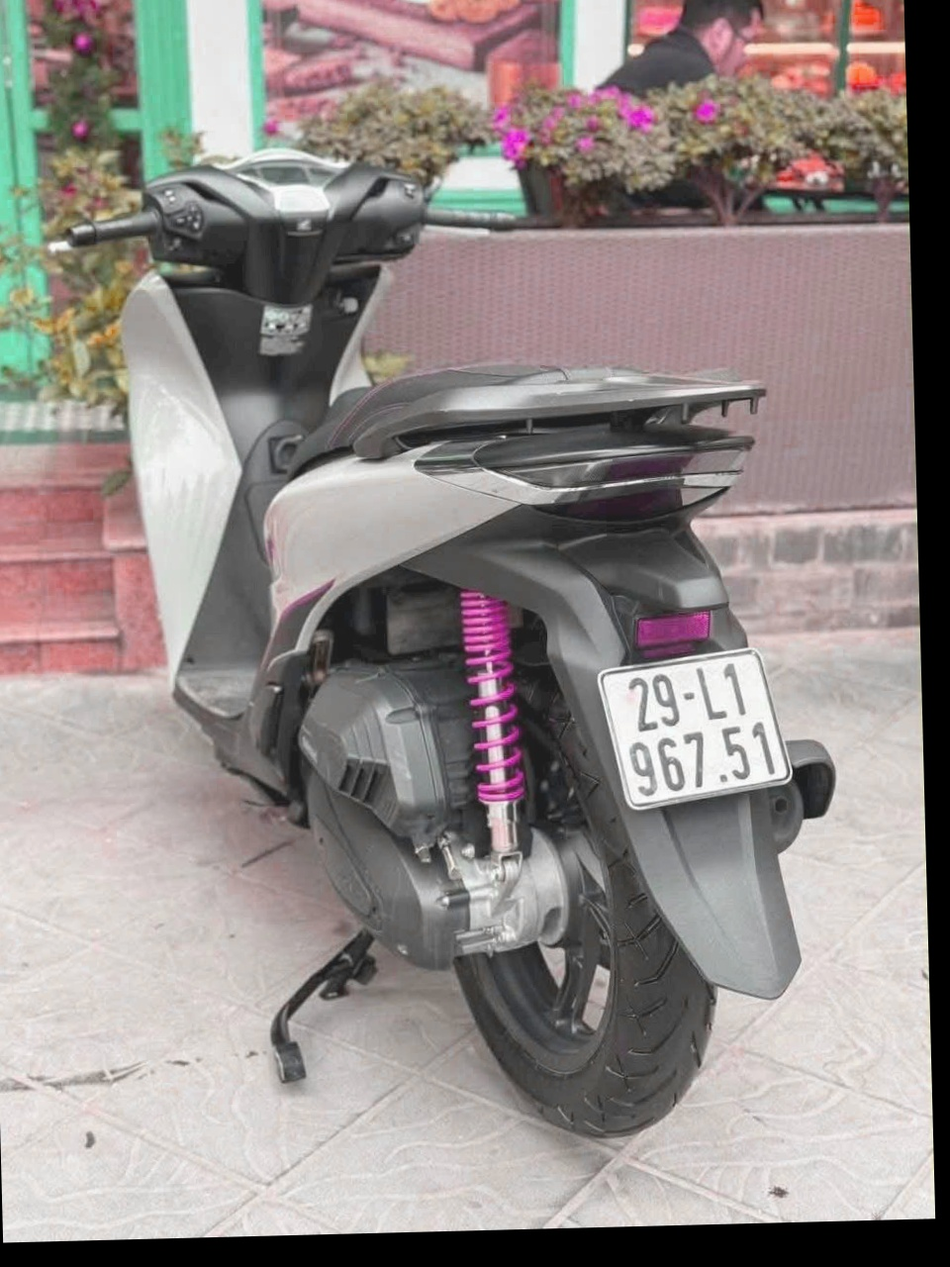Bien-so: (639, 693, 831, 874)
